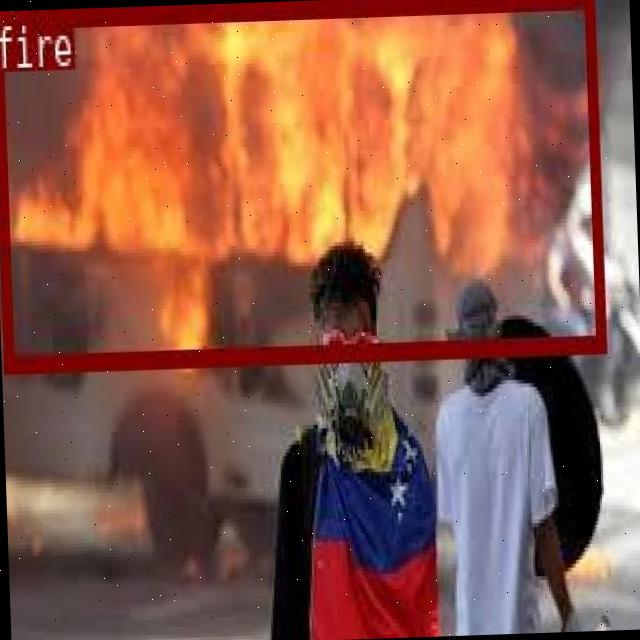fire: (0, 0, 602, 371)
